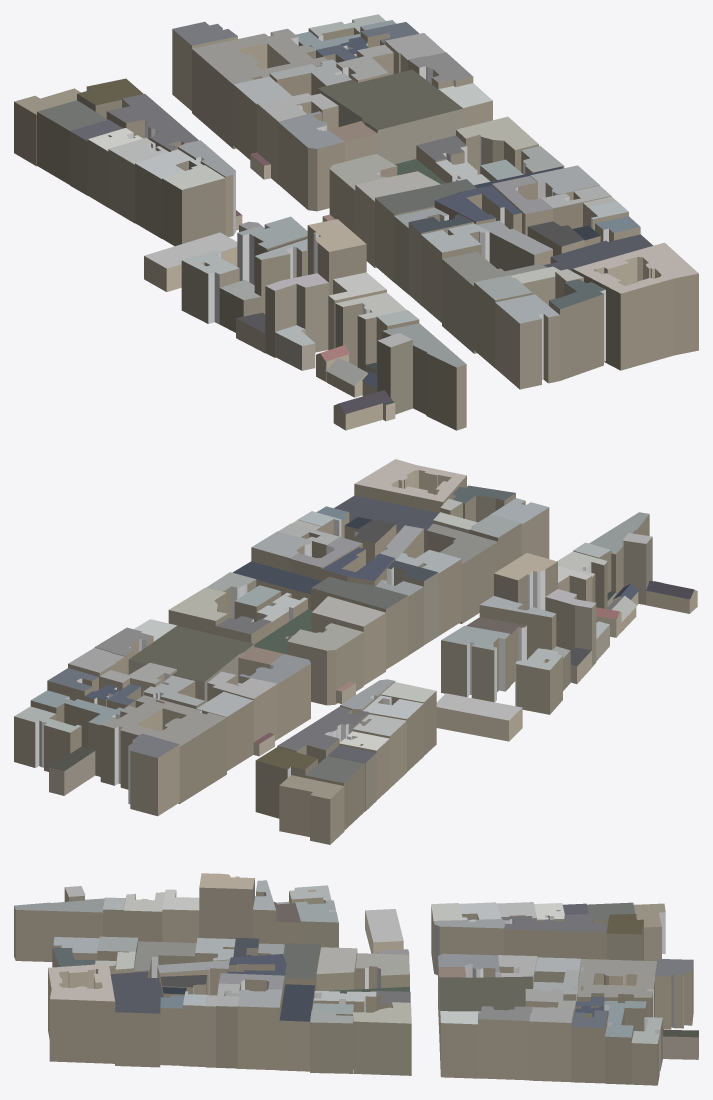
3 renders of one model, top to bottom at view 1: azimuth 30°, elevation 25°; view 2: azimuth 150°, elevation 25°; view 3: azimuth 270°, elevation 25°, orthographic. The views are drawn at different scales.
Parts seen in each view (by area): view 1: tuile; view 2: tuile; view 3: tuile.
Boxes of the visible parts, <box> form: tuile: <box>14,14,698,430</box>; tuile: <box>14,459,697,844</box>; tuile: <box>14,873,698,1085</box>.
Bounding box in the file's own units: 147 × 35.77 × 266.
